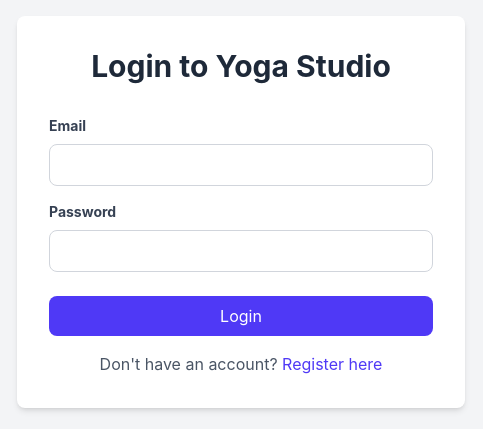
Test: Login › should disable button and show loading state on submit
Type "yoga@studio.com" into the field labelled "Email" at coordinates (241, 165), box top-left (49, 144), bottom-right (433, 186)
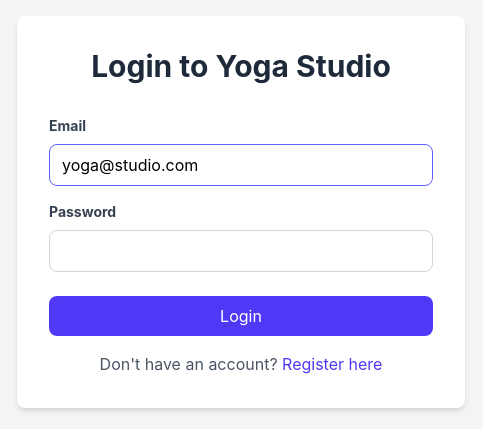
Type "test!1234" into the password field labelled "Password" at coordinates (241, 251), box top-left (49, 230), bottom-right (433, 272)
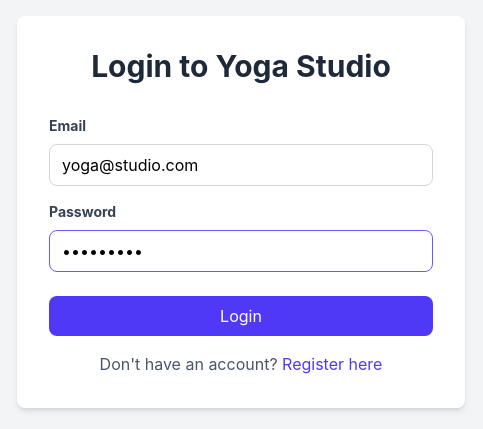
Click the button "Login" at coordinates (241, 316), box top-left (49, 296), bottom-right (433, 336)
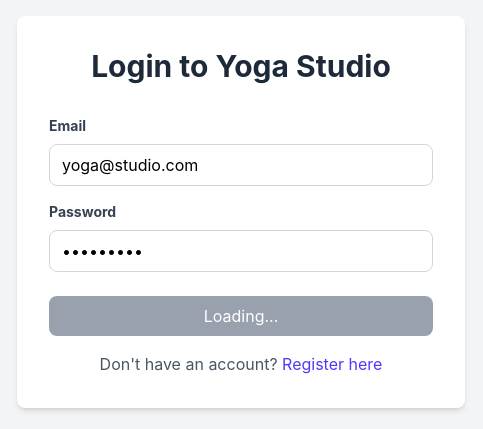
Expected: the button "Loading..." is disabled, top-left (49, 296), bottom-right (433, 336)
